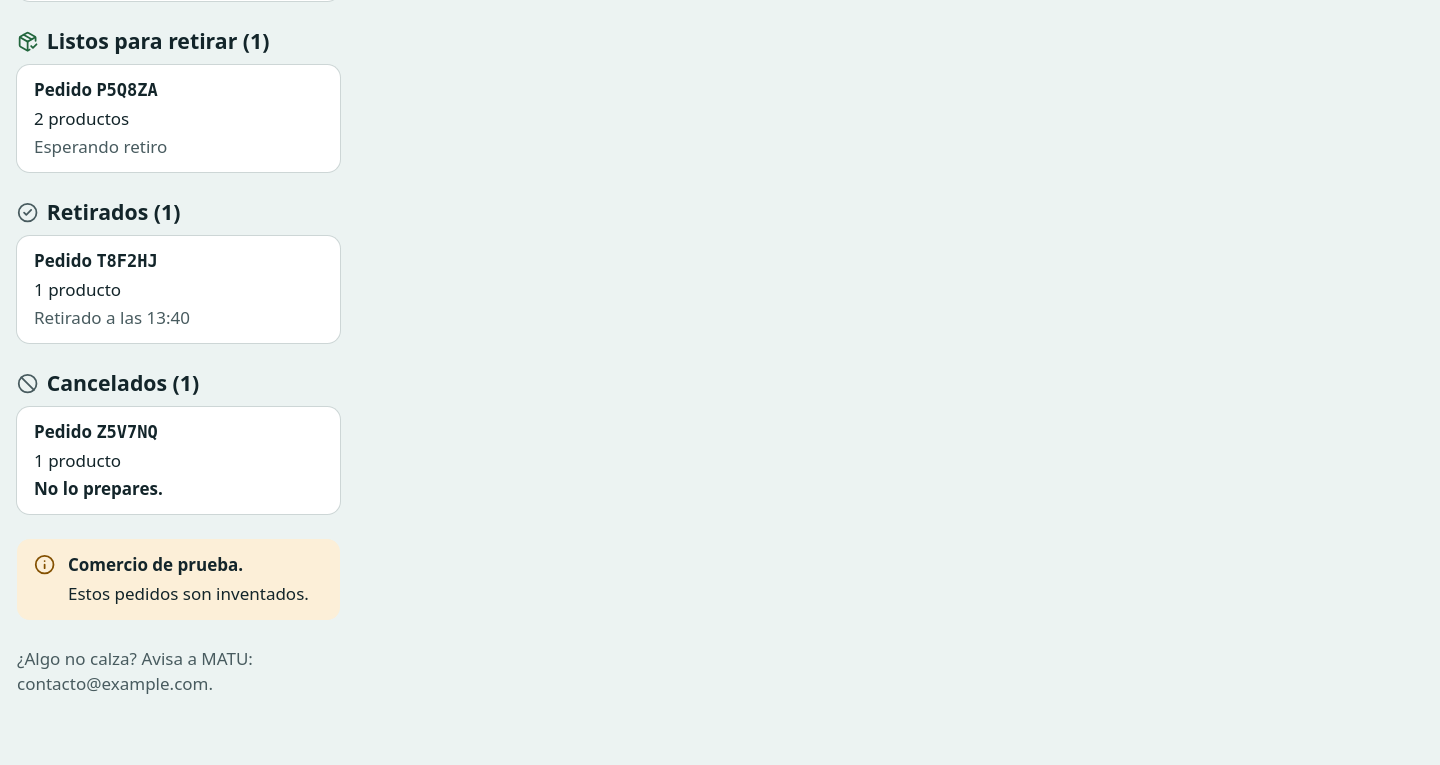
Test: P1 › 3: con `motivo_cancelacion` de la API (decisión 430), el texto de O3 aunque las líneas no digan faltante
This screenshot has width=1440, height=765.
(page scrolled)
Click the button "Pedido Z5V7NQ 1 producto No lo prepares.".
click(63, 432)  # box 17,406 -> 340,514
(page scrolled)
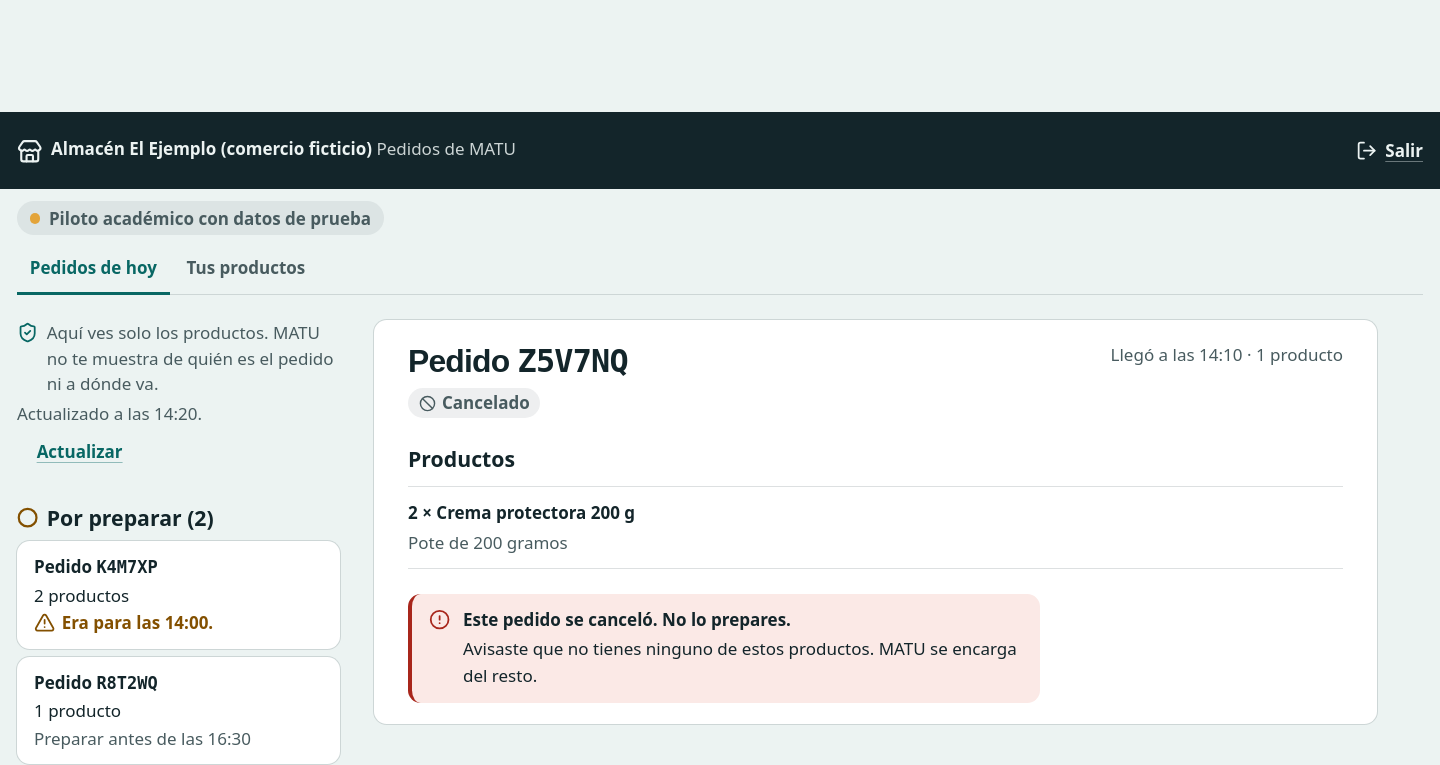
Expected: the heading "Productos" is shown, 408,444 -> 515,472
Expected: the text "Avisaste que no tienes ninguno de estos productos. MATU se encarga del resto." is shown, 463,635 -> 1023,690
